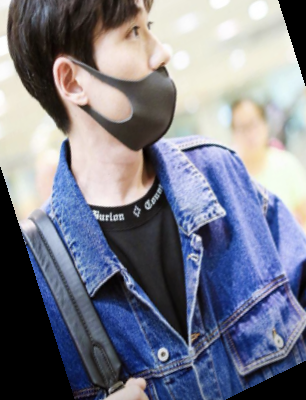mask_weared_incorrect: (1, 1, 199, 155)
